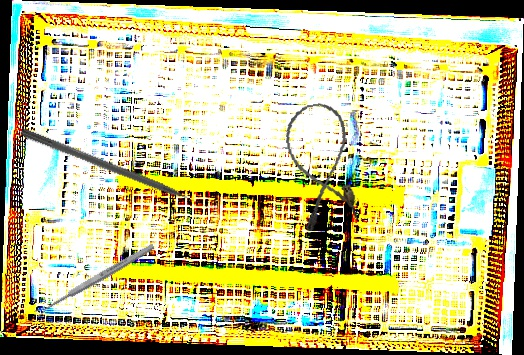Cannula: (280, 99, 362, 233)
Pusher: (18, 126, 214, 215)
Surgical Spoon: (33, 242, 156, 318)
